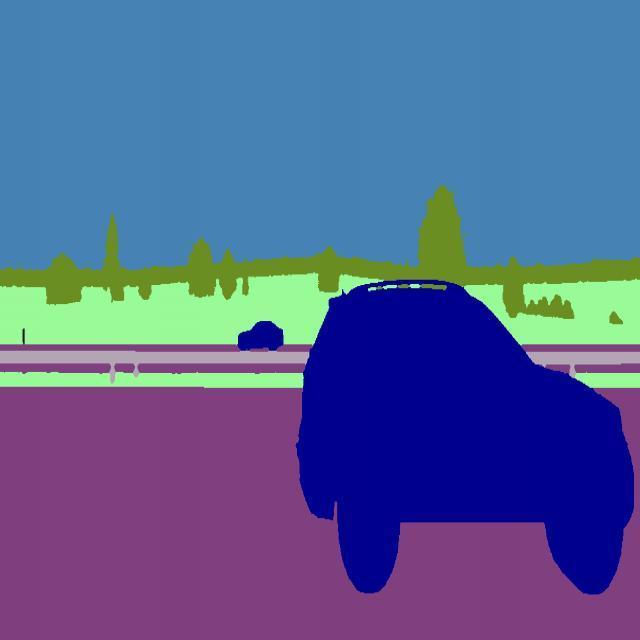safe: (238, 317, 284, 354)
unsafe: (300, 276, 632, 591)
